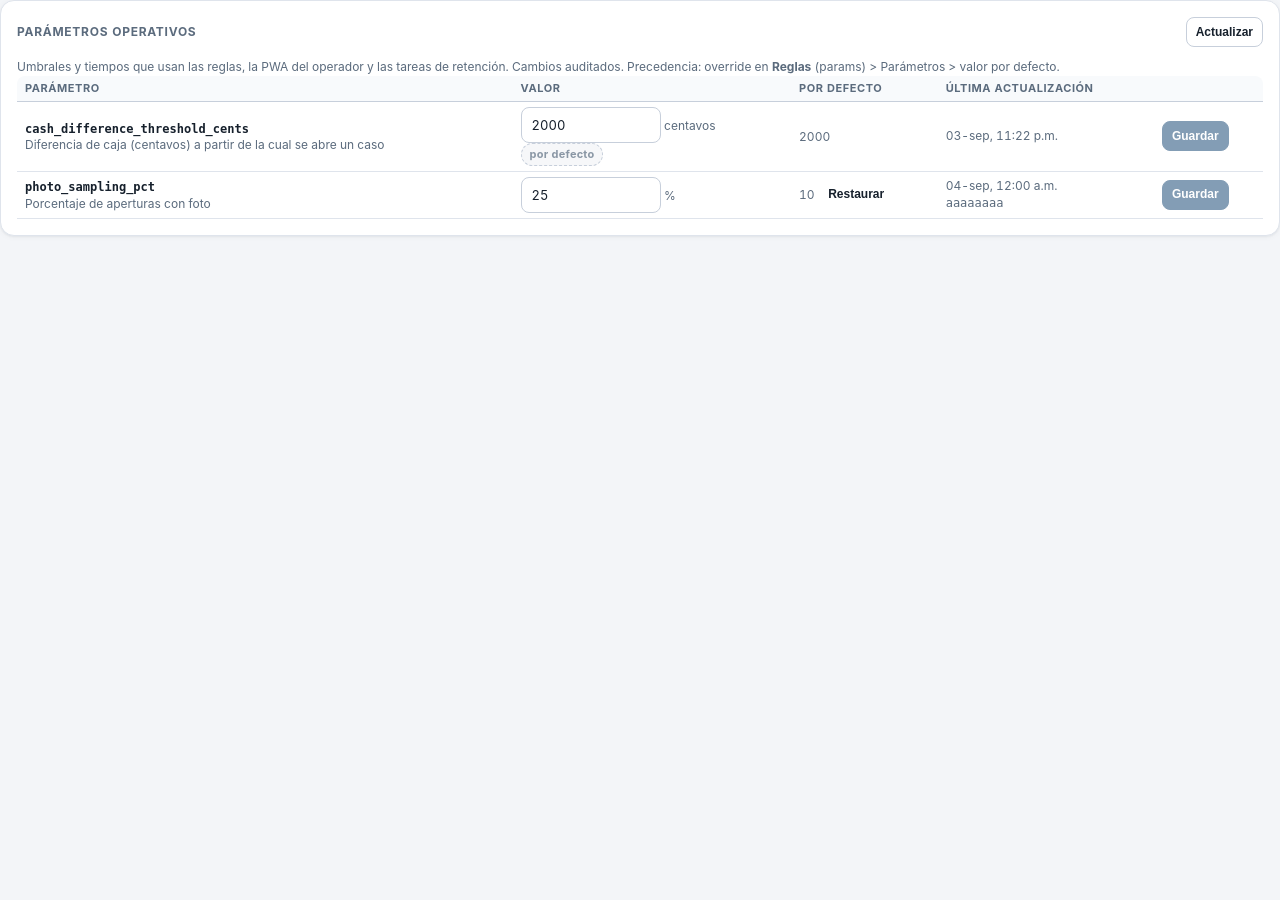
Test: SettingsTab (Parámetros) › muestra el 422 del servidor como toast y no acepta valores no enteros
Replace the text in the number field named "Valor de photo_sampling_pct" with "150": (591, 195) [521, 177, 661, 213]
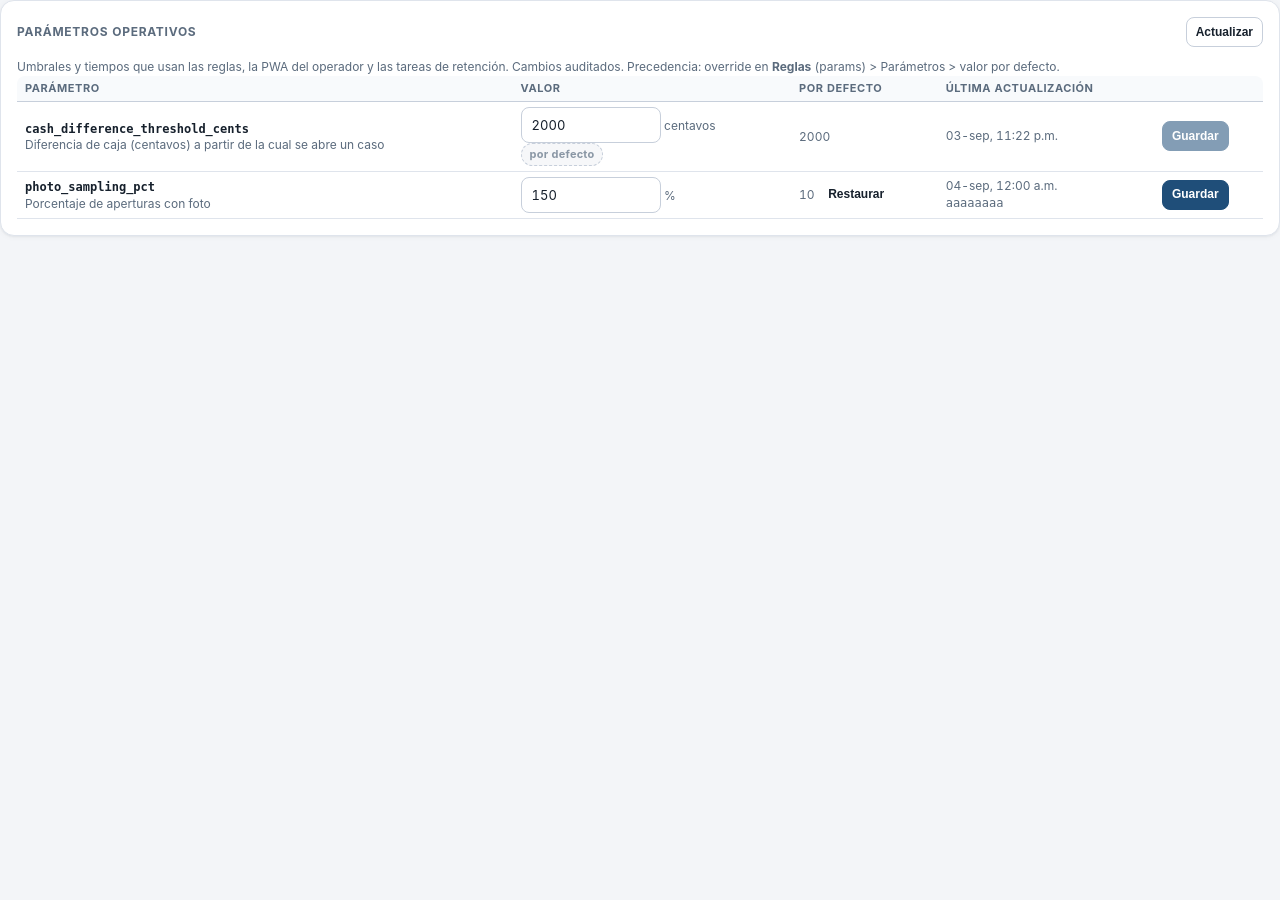
Click the button with test id "save-photo_sampling_pct": click(1195, 195) [1162, 180, 1229, 210]
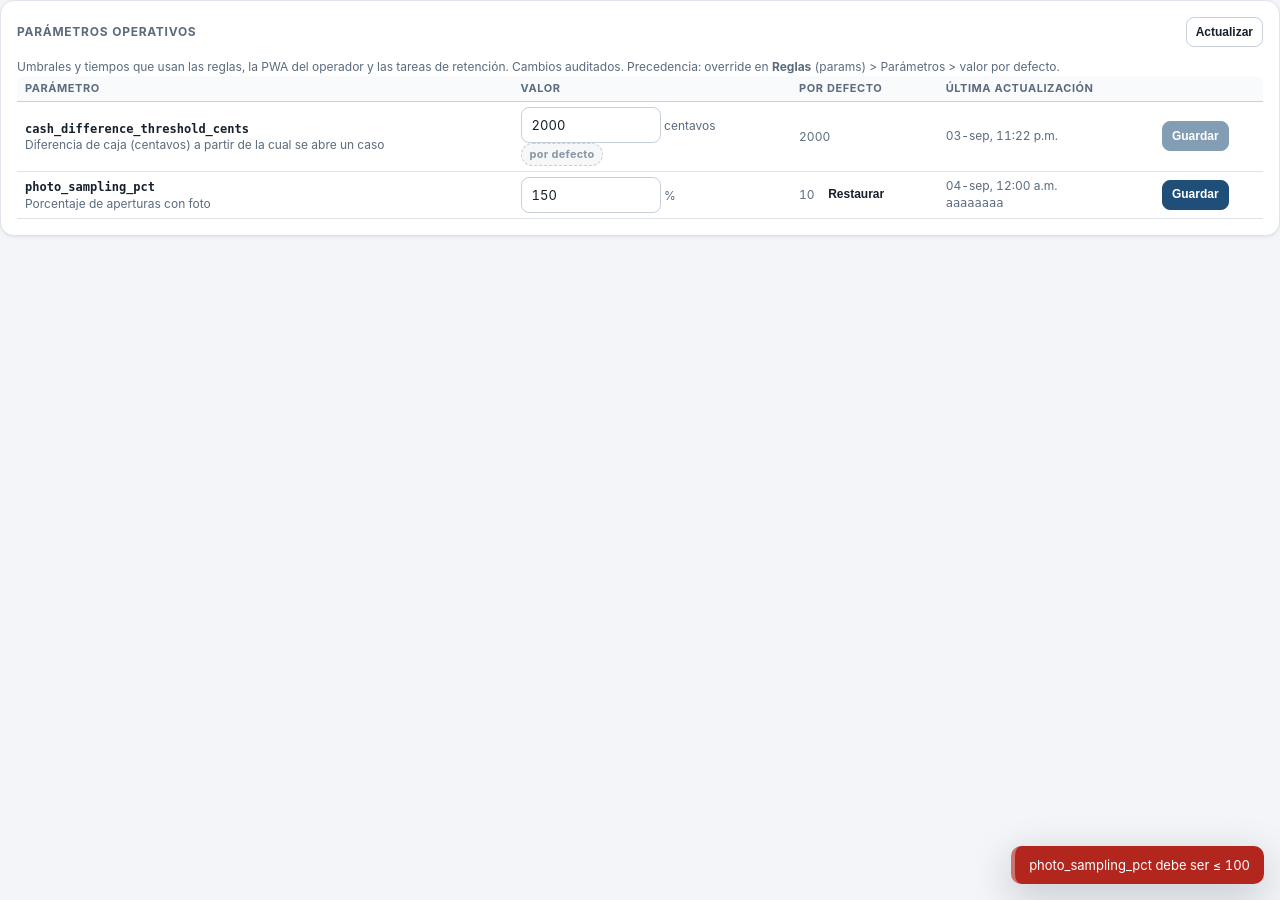
Expected: the text "photo_sampling_pct debe ser ≤ 100" is shown, [1011, 846, 1264, 884]
Replace the text in the number field named "Valor de photo_sampling_pct" with "12.5": (591, 195) [521, 177, 661, 213]
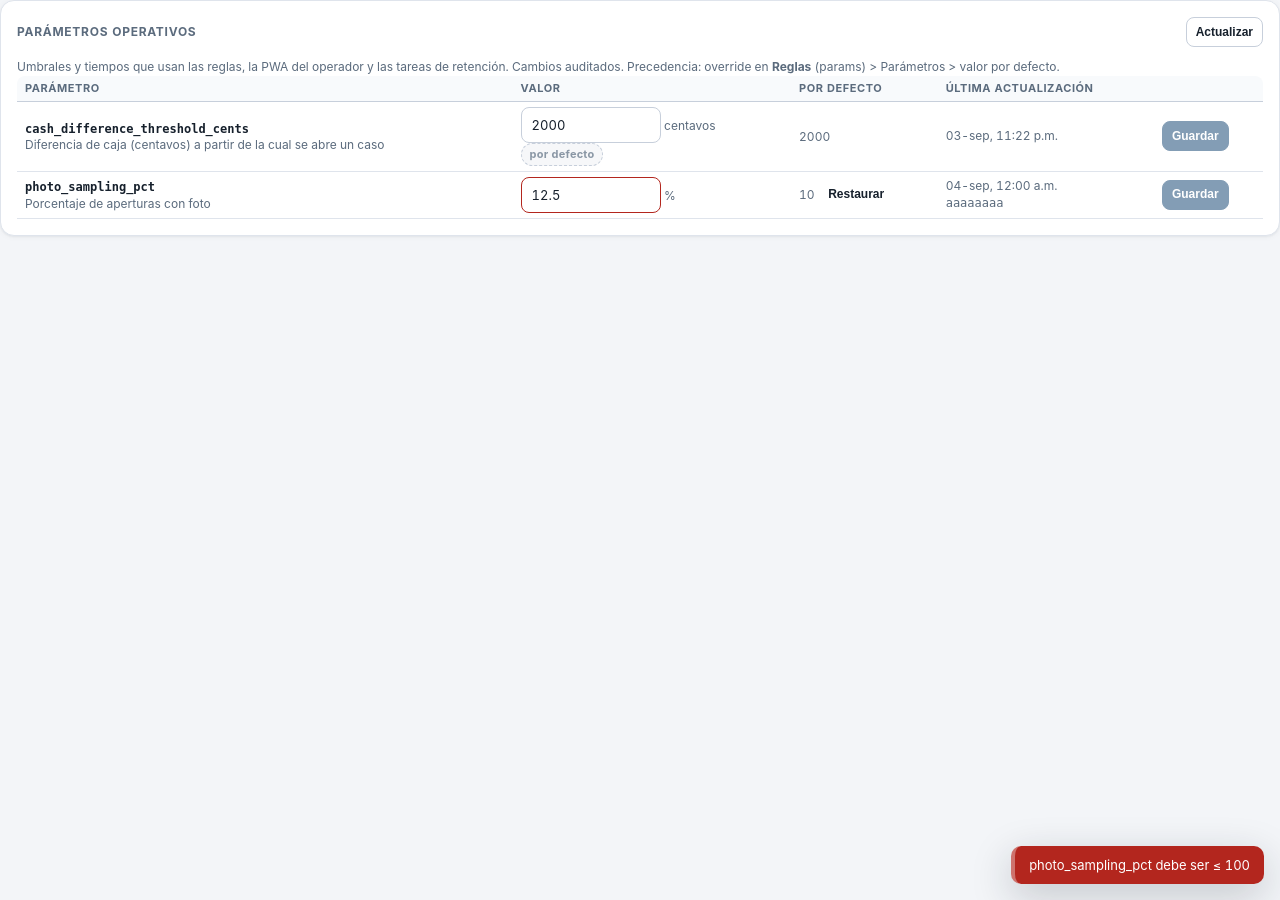
Expected: the button with test id "save-photo_sampling_pct" is disabled, [1162, 180, 1229, 210]
